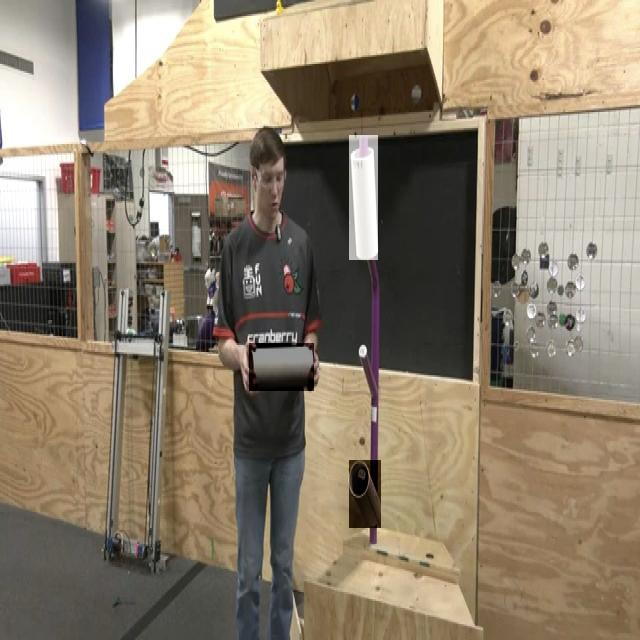Coral: (349, 135, 378, 260), (249, 343, 314, 391), (349, 461, 381, 528)
